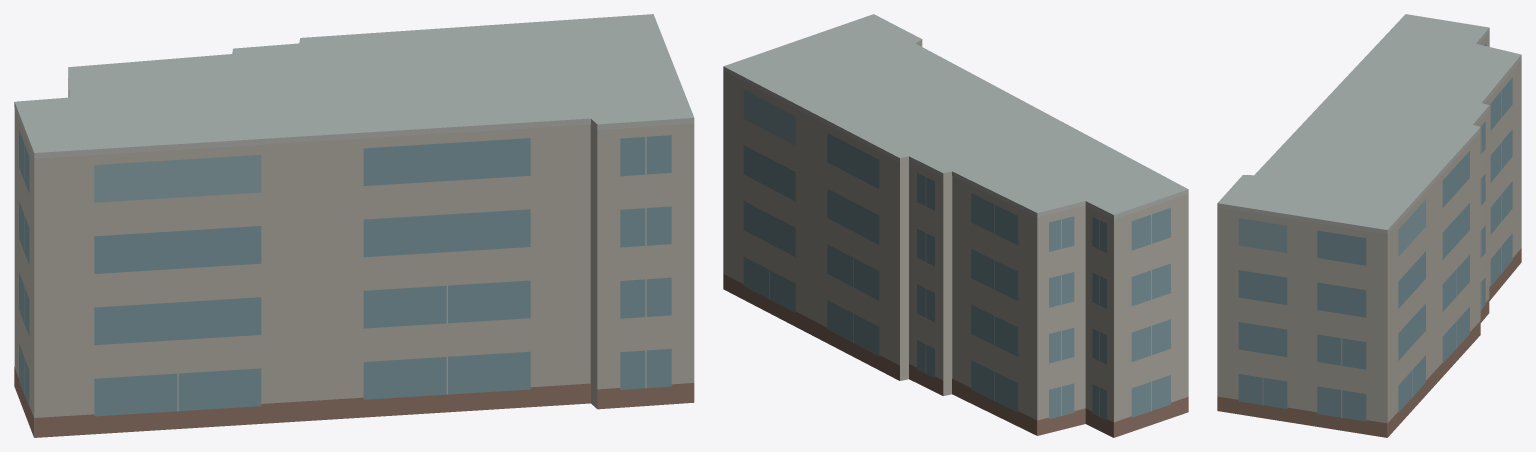
File: survey-upis-32871309.glb
3 views of the same model, side by side, from view 1: azimuth 30°, elevation 25°; view 2: azimuth 150°, elevation 25°; view 3: azimuth 270°, elevation 25° (orthographic). The views are drawn at different scales.
Parts seen in each view (by area): view 1: survey-upis-32871309.tmp; view 2: survey-upis-32871309.tmp; view 3: survey-upis-32871309.tmp.
Boxes of the visible parts, x1,y1,x2,y2 form: survey-upis-32871309.tmp: (14, 14, 694, 437); survey-upis-32871309.tmp: (723, 14, 1188, 437); survey-upis-32871309.tmp: (1217, 14, 1521, 437).
Size of the model in its own units: 26.99 by 12.1 by 16.06.
